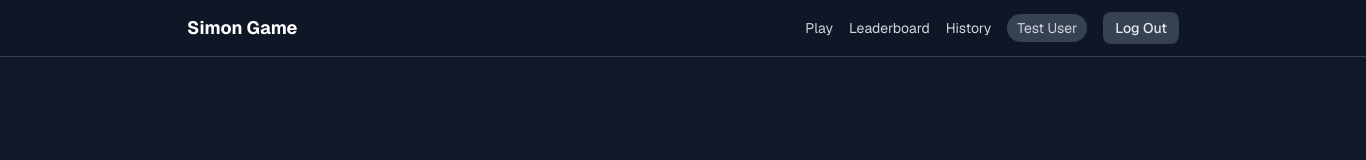
Test case: Navbar › Sign-out Loading State › disables sign-out button while signing out
What coordinates should you click on to do the following:
click the button "Log Out"
I would click on:
 (1141, 28)
Its box is [1103,12,1179,44].
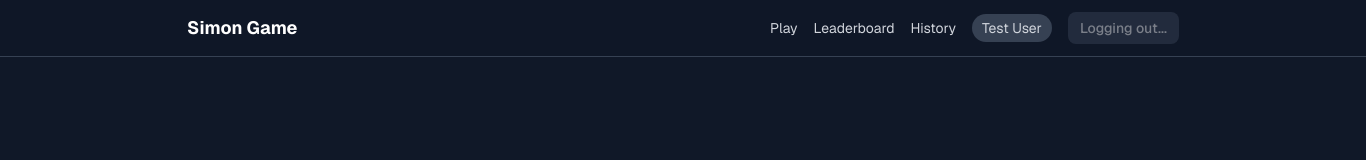
Expected: the button "Logging out..." is disabled, [1068,12,1179,44]
